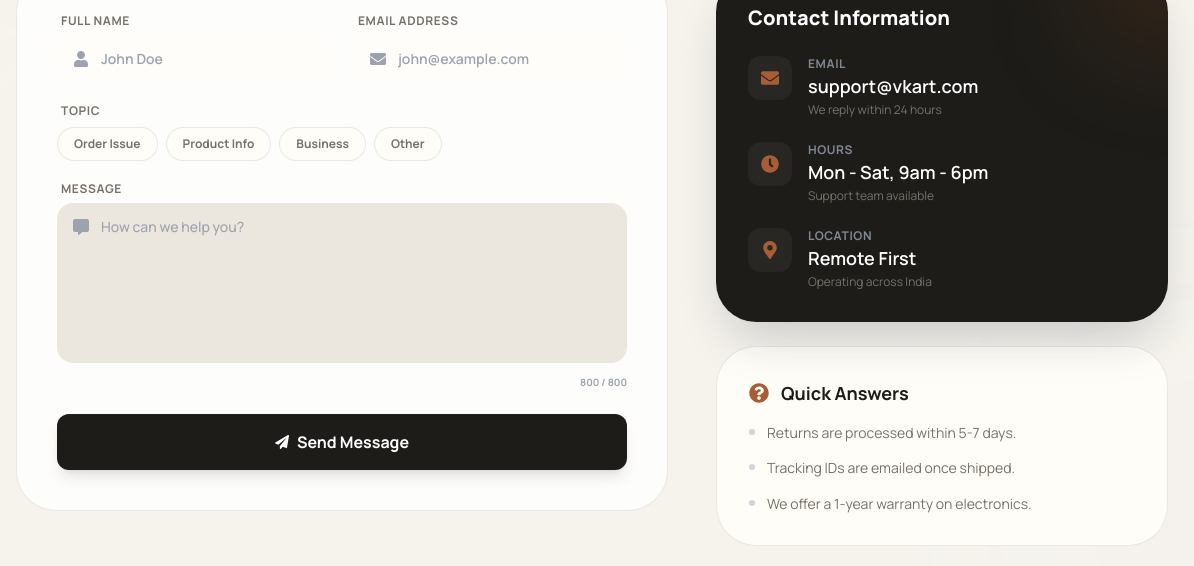
Test: Contact Component › shows validation errors for an empty submission
(page scrolled)
Click the button "Send Message". click: (342, 442)
box: x1=57 y1=414 x2=627 y2=470
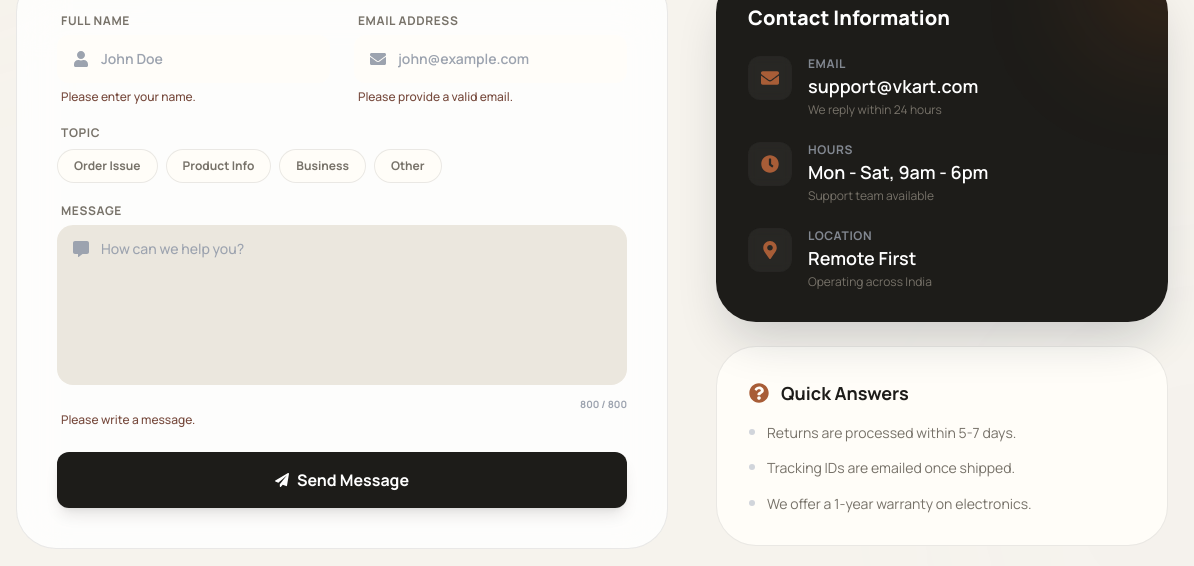
Check: the text "Please enter your name." is shown, box x1=61 y1=88 x2=196 y2=105
Check: the text "Please provide a valid email." is shown, box x1=358 y1=88 x2=513 y2=105
Check: the text "Please write a message." is shown, box x1=61 y1=411 x2=195 y2=428
